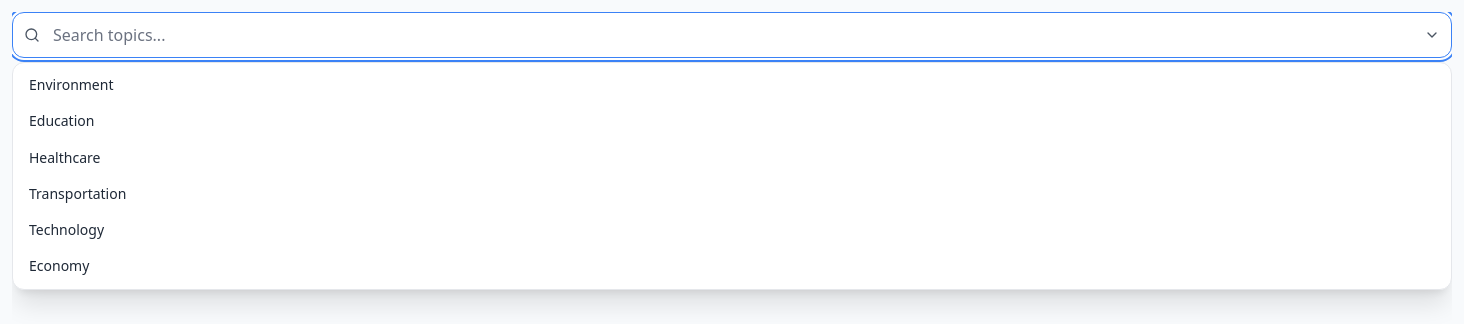
Test: TopicsAutocomplete › shows no results message
Expected: the option "Environment" is shown, [29,75,114,94]
Type "nonexistent" into the dropdown with placeholder "Search topics...".
click(732, 35); type("nonexistent")  # box [12,12,1452,58]
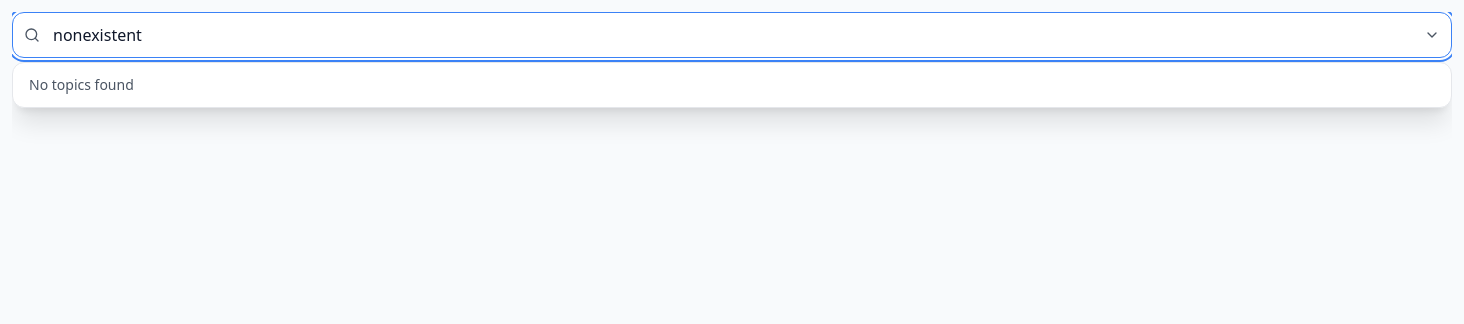
Now the text "No topics found" is shown, box [29,75,134,94]
